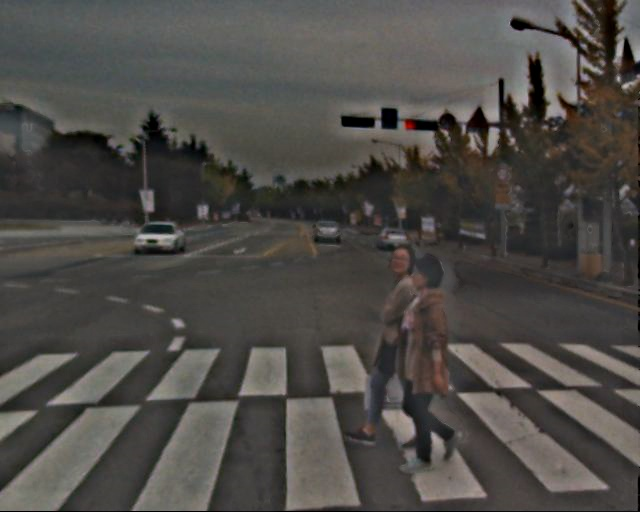person: (384, 257, 468, 468), (365, 239, 436, 445)
